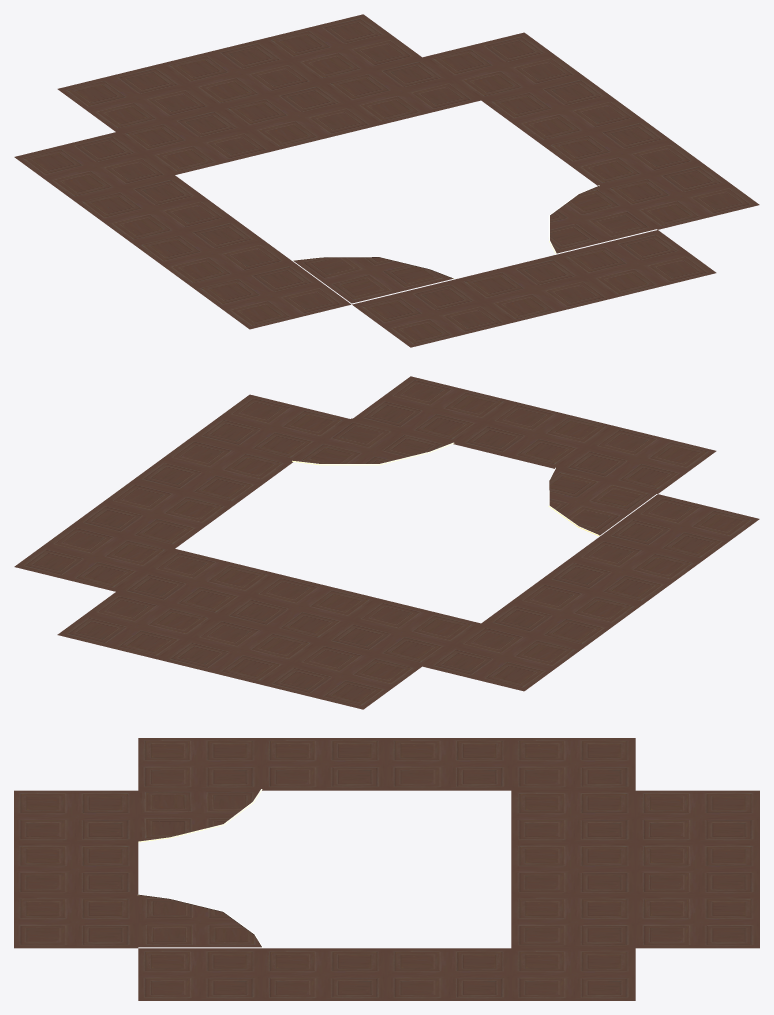
The model's file is Homeworld_Interior_Md_Room_P_Ceiling_01_Vo.fbx.
The picture shows the model from 3 angles, top to bottom: view 1: azimuth 30°, elevation 25°; view 2: azimuth 150°, elevation 25°; view 3: azimuth 270°, elevation 25°; orthographic projection. The views are drawn at different scales.
Visible parts, largest first — view 1: Homeworld_Interior_Md_Room_P_Ceiling_01_Vo; view 2: Homeworld_Interior_Md_Room_P_Ceiling_01_Vo; view 3: Homeworld_Interior_Md_Room_P_Ceiling_01_Vo.
Part boxes in pixels (x1,y1,x2,y2): Homeworld_Interior_Md_Room_P_Ceiling_01_Vo: (14, 14, 759, 347); Homeworld_Interior_Md_Room_P_Ceiling_01_Vo: (14, 376, 759, 709); Homeworld_Interior_Md_Room_P_Ceiling_01_Vo: (14, 738, 759, 1000).
Bounding box in the file's own units: 25.01 × 0.066 × 30.
